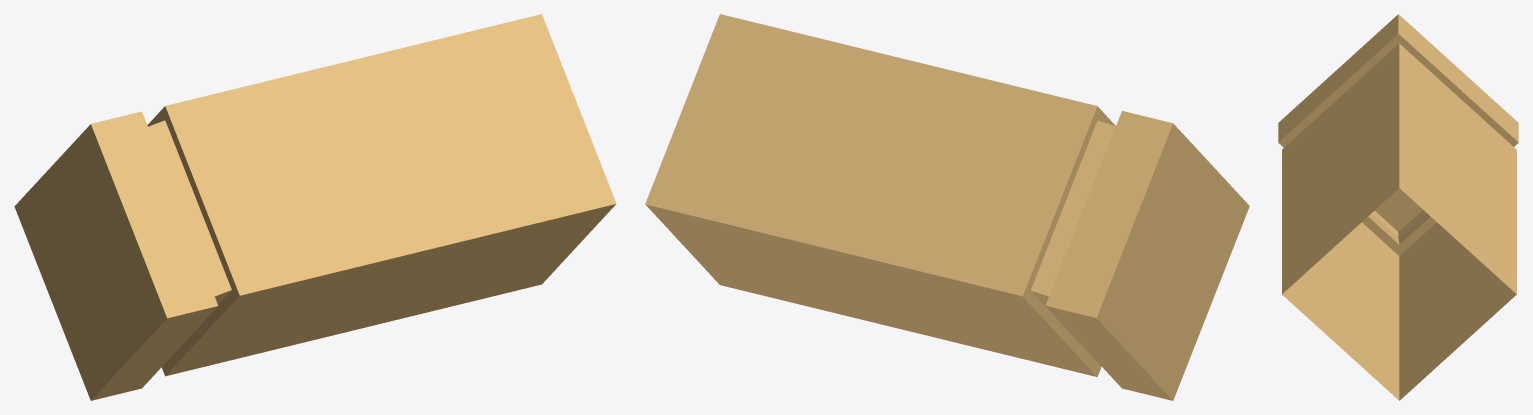
Rendered from shell-9mm.glb.
The picture shows the model from 3 angles, left to right: view 1: azimuth 30°, elevation 25°; view 2: azimuth 150°, elevation 25°; view 3: azimuth 270°, elevation 25°; orthographic projection. The views are drawn at different scales.
Parts seen in each view (by area): view 1: bullet-9mm; view 2: bullet-9mm; view 3: bullet-9mm.
Boxes of the visible parts, x1=… form: bullet-9mm: x1=14, y1=14, x2=616, y2=400; bullet-9mm: x1=645, y1=14, x2=1249, y2=400; bullet-9mm: x1=1278, y1=14, x2=1518, y2=400.
Bounding box in the file's own units: 0.0161 × 0.00943 × 0.00943.
